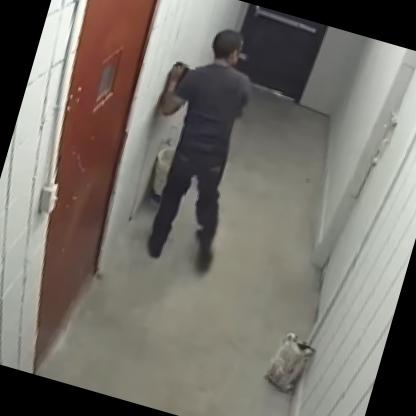Human Body: (112, 11, 284, 283)
